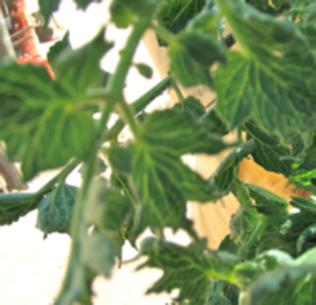Tomato leaf mosaic virus: (0, 31, 123, 174), (111, 110, 209, 223), (212, 38, 316, 141), (136, 242, 225, 305), (236, 119, 305, 189), (0, 187, 45, 240), (266, 265, 316, 305)
